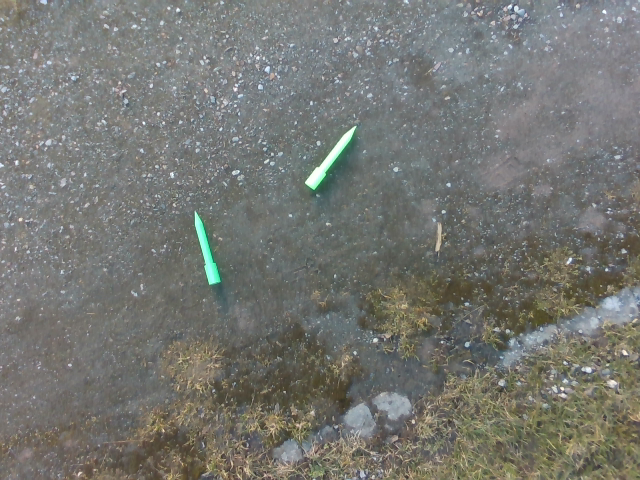Probe: (301, 121, 360, 195), (189, 206, 223, 290)
